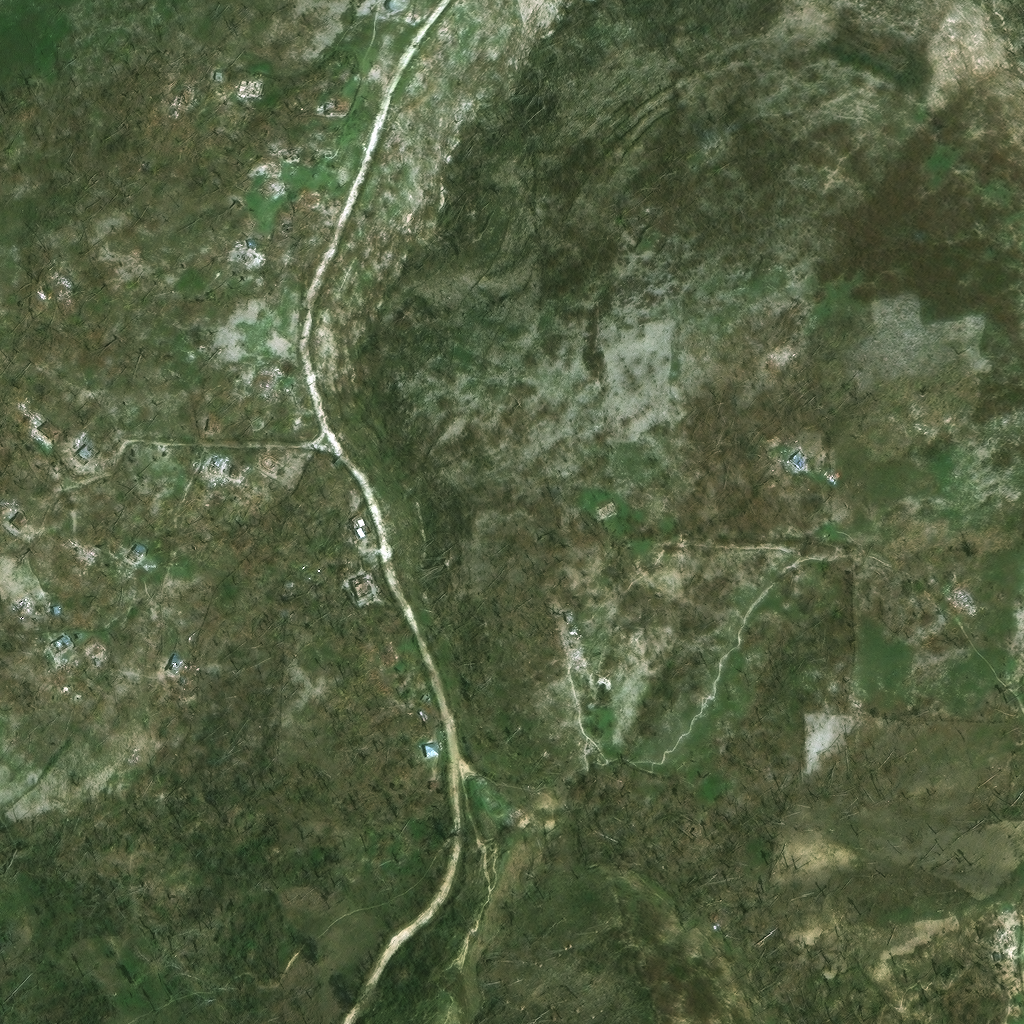destroyed: (471, 736, 496, 765), (222, 256, 245, 280), (345, 517, 368, 540), (131, 537, 152, 560), (601, 496, 625, 516), (57, 258, 79, 279), (942, 591, 963, 612), (69, 285, 89, 307), (19, 504, 39, 523), (93, 635, 113, 652), (243, 76, 264, 92), (71, 975, 92, 990), (388, 641, 406, 658), (204, 456, 220, 475), (507, 807, 524, 824), (252, 185, 269, 202), (229, 936, 246, 951), (30, 589, 46, 604), (192, 80, 206, 97), (256, 165, 270, 181), (558, 631, 572, 646), (89, 543, 103, 558), (247, 375, 262, 389), (976, 948, 991, 961), (97, 300, 110, 315), (777, 429, 790, 443), (423, 687, 435, 701), (271, 155, 283, 168), (287, 201, 300, 213), (181, 649, 194, 659), (72, 531, 82, 544), (270, 363, 280, 375), (344, 559, 354, 569), (941, 571, 951, 581), (193, 668, 203, 677), (32, 404, 41, 413), (384, 663, 393, 672)
major_damage: (348, 572, 374, 598), (54, 629, 80, 652), (303, 112, 321, 127)
minor_damage: (47, 414, 68, 436), (223, 63, 235, 72)
